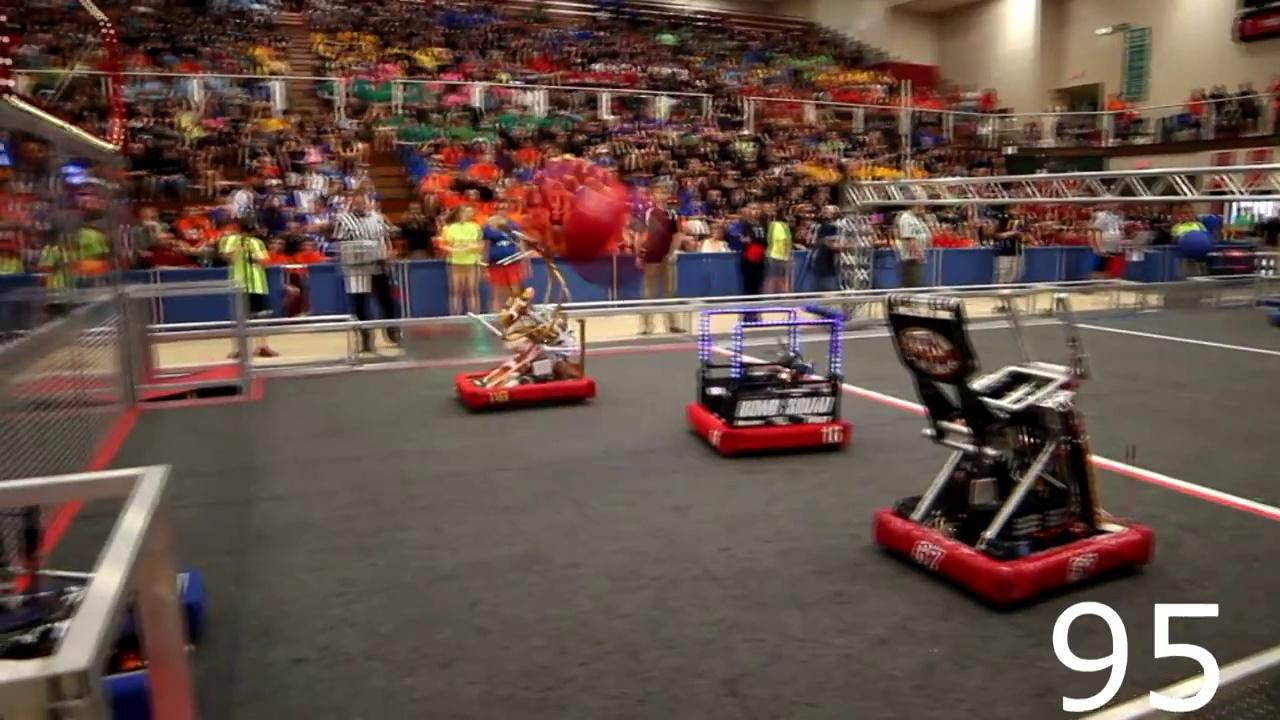robot: (866, 281, 1155, 609), (682, 300, 853, 456), (454, 251, 602, 417)
